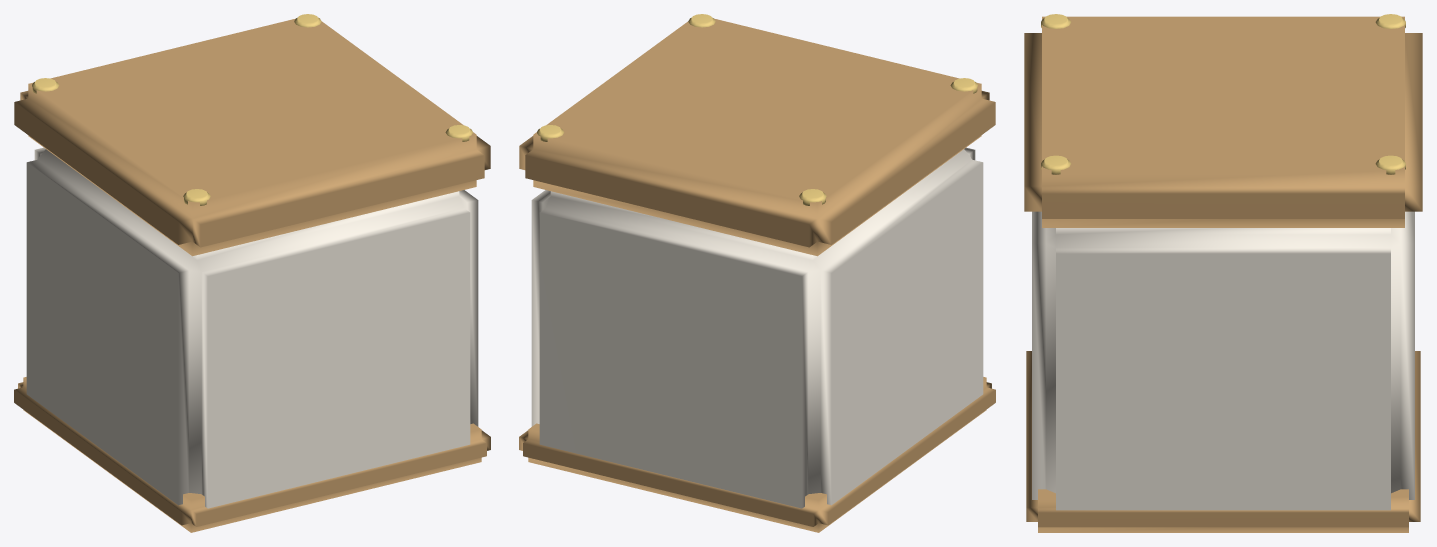
File: toy_platform_slab.glb
3 views of the same model, side by side, from view 1: azimuth 30°, elevation 25°; view 2: azimuth 150°, elevation 25°; view 3: azimuth 270°, elevation 25° (orthographic). The views are drawn at different scales.
Parts seen in each view (by area): view 1: SlabBody, SlabTopDeck, SlabBottomRim; view 2: SlabBody, SlabTopDeck, SlabBottomRim; view 3: SlabBody, SlabTopDeck, SlabBottomRim.
Part boxes in pixels (x1,y1,x2,y2): SlabBody: (26, 147, 478, 508); SlabTopDeck: (14, 18, 490, 256); SlabBottomRim: (14, 377, 490, 532); SlabBody: (531, 147, 983, 508); SlabTopDeck: (519, 18, 995, 256); SlabBottomRim: (519, 377, 995, 532); SlabBody: (1032, 211, 1414, 510); SlabTopDeck: (1024, 16, 1422, 227); SlabBottomRim: (1026, 351, 1420, 532).
Size of the model in its own units: 1 by 1.01 by 1.
